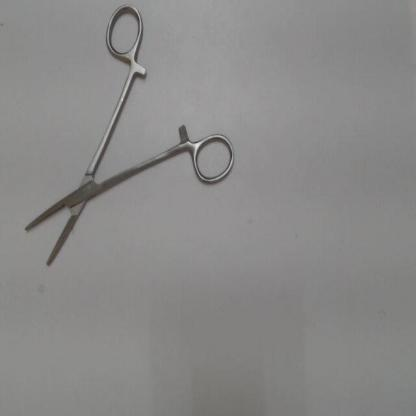Mayo Needle Holder: (19, 1, 241, 277)
